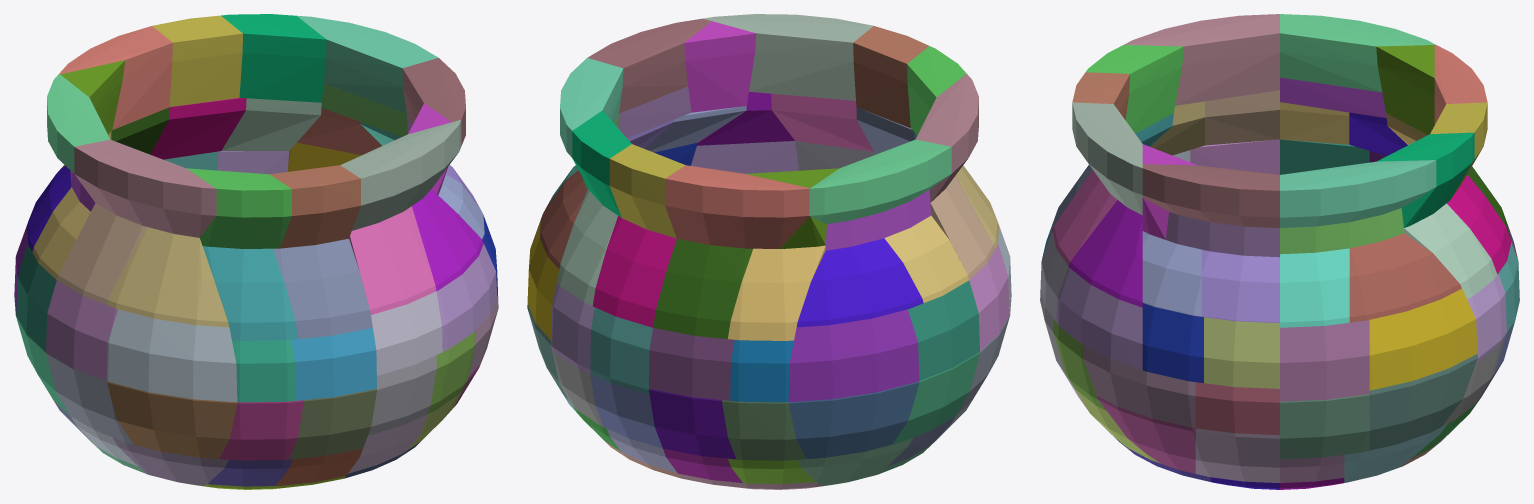
3 renders of one model, left to right at view 1: azimuth 30°, elevation 25°; view 2: azimuth 150°, elevation 25°; view 3: azimuth 270°, elevation 25°, orthographic.
Visible parts, largest first — view 1: world; view 2: world; view 3: world.
Part boxes in pixels (box(x1,y1,x2,y2)): world: box(14, 14, 498, 489); world: box(527, 14, 1011, 489); world: box(1040, 14, 1519, 489).
Size of the model in its own units: 313 by 250 by 311.
